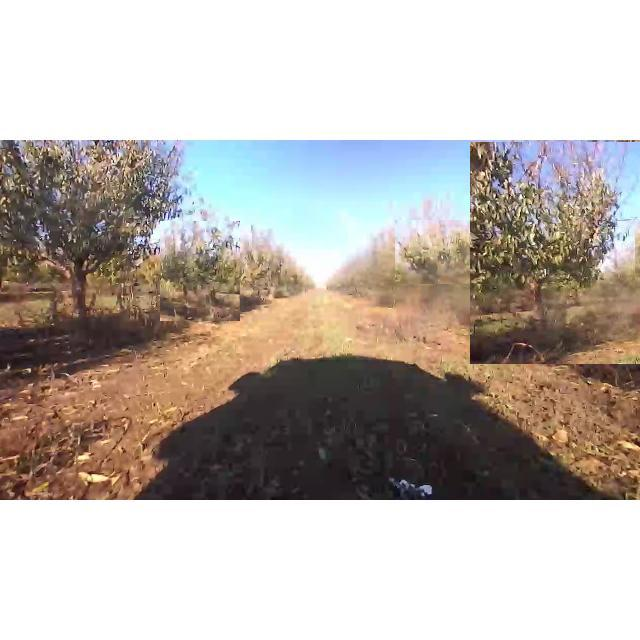direk: (470, 142, 640, 364), (0, 141, 190, 333), (160, 221, 240, 321), (395, 220, 475, 284)
